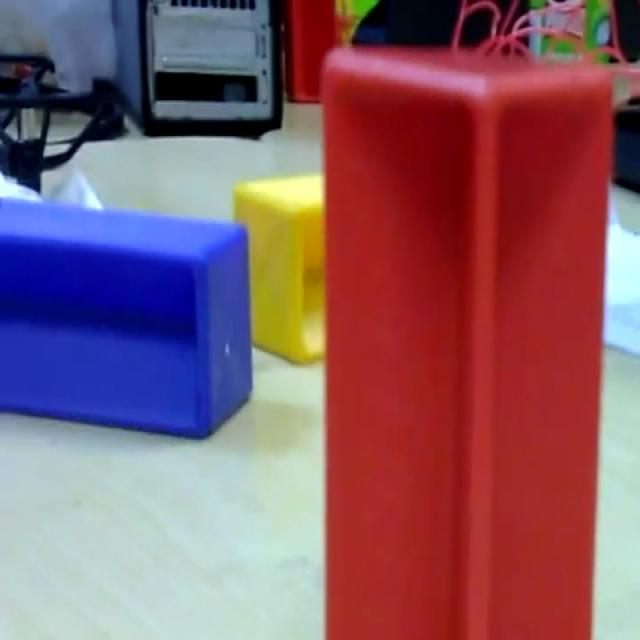blue_block: (0, 193, 254, 440)
red_block: (320, 43, 613, 636)
yellow_block: (232, 171, 326, 364)
